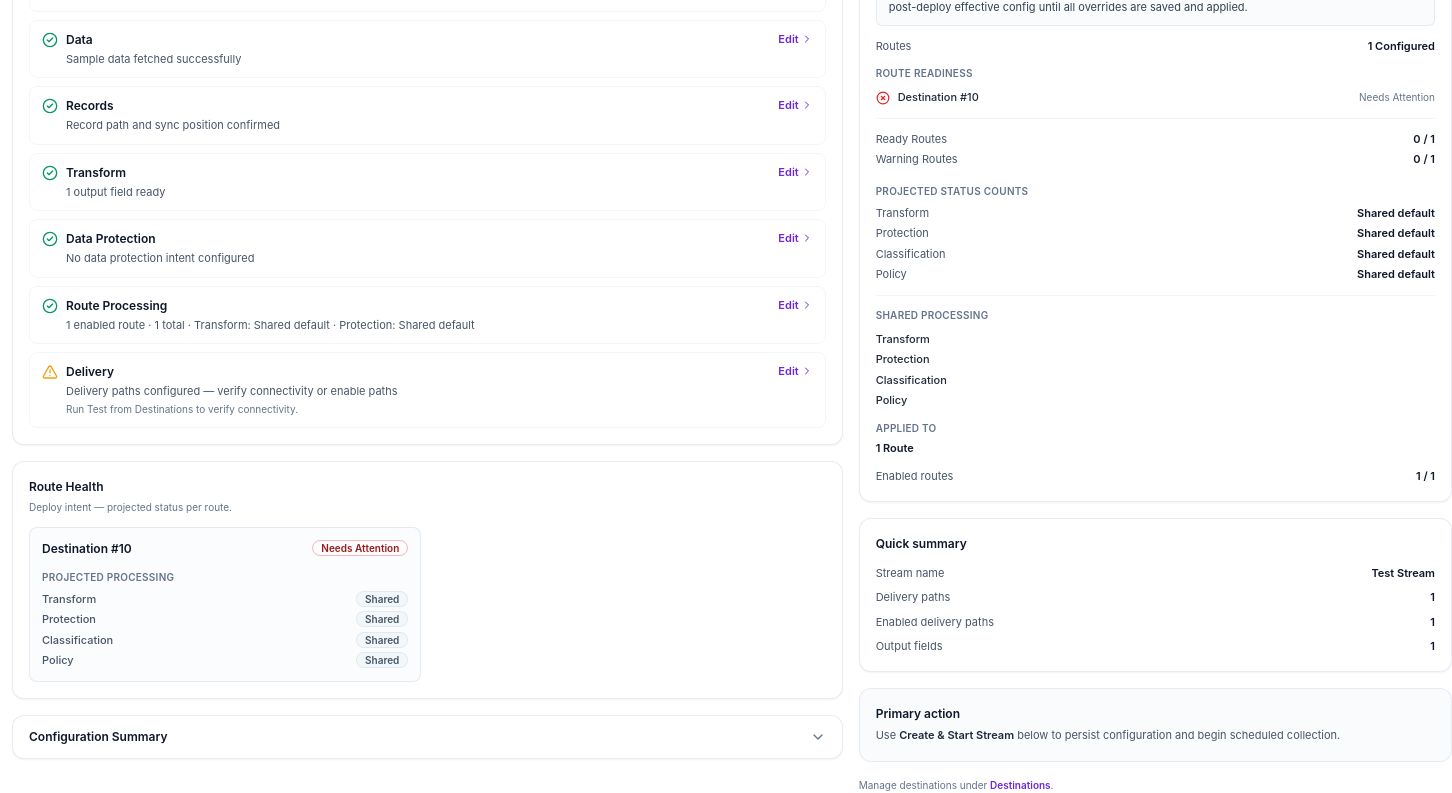
Scenario: StepDeploy › shows template materialization rows when expanded
(page scrolled)
Click the button "Configuration Summary": [98, 736] box [13,716,842,758]
(page scrolled)
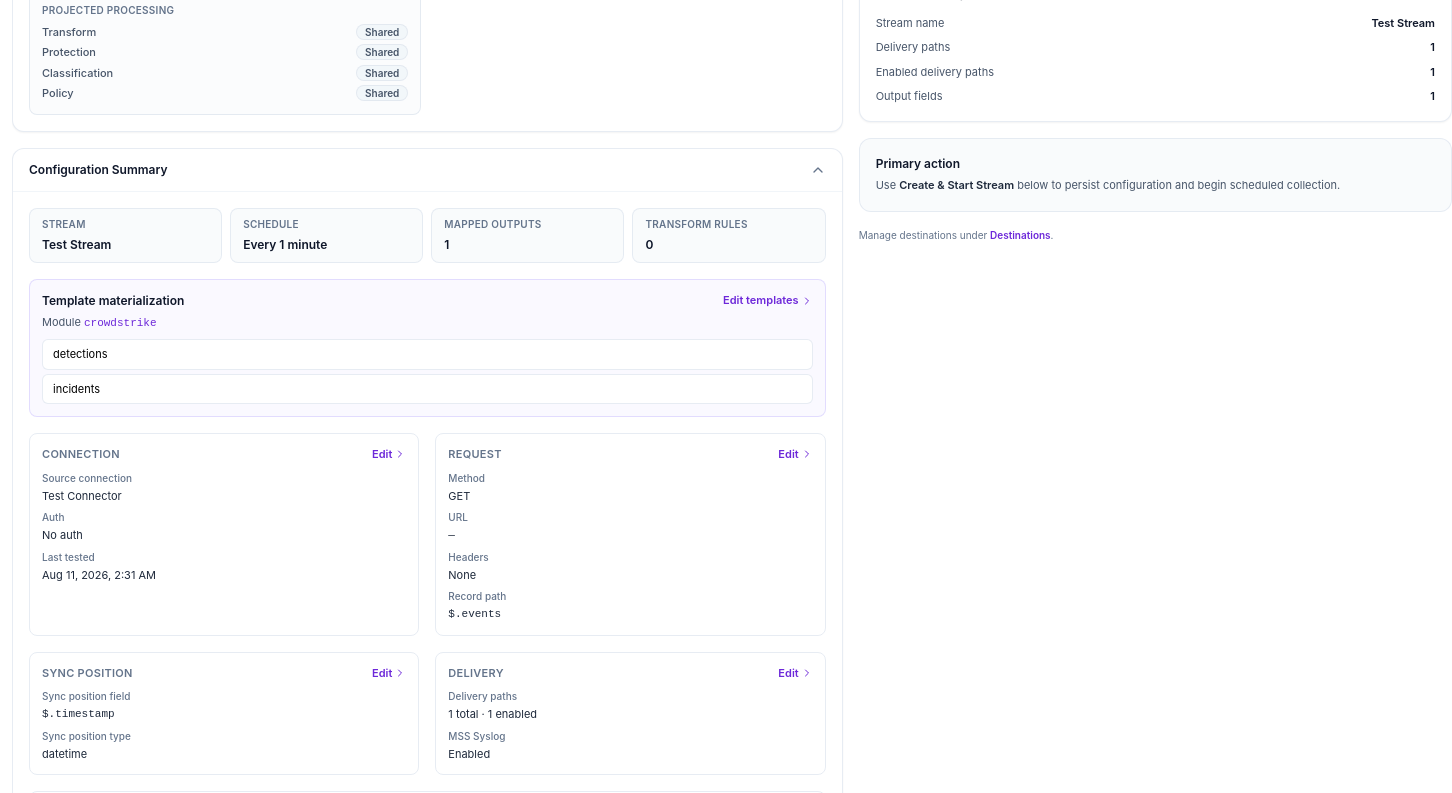
Result: the element with test id "deploy-template-materialization" is shown at [29,279,826,417]
Result: the list item with test id "deploy-template-row-detections" is shown at [42,339,813,370]
Result: the list item with test id "deploy-template-row-incidents" is shown at [42,374,813,404]
